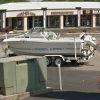Boat: (4, 21, 97, 63)
